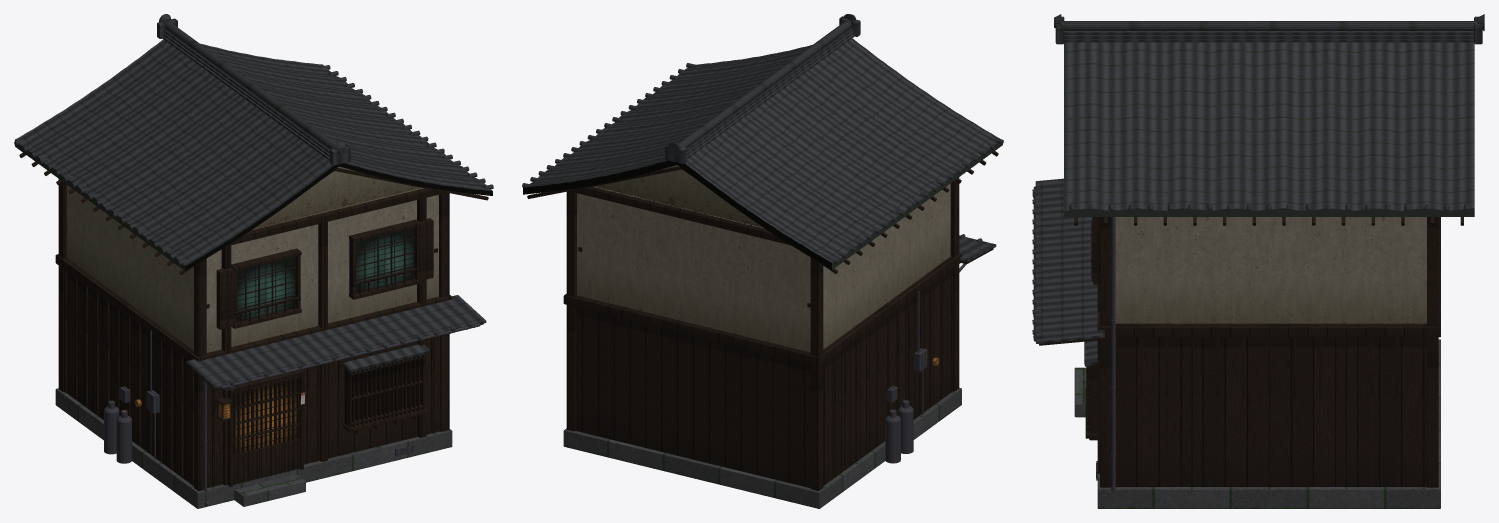
File: MachiyaHouse_B.fbx
3 views of the same model, side by side, from view 1: azimuth 30°, elevation 25°; view 2: azimuth 150°, elevation 25°; view 3: azimuth 270°, elevation 25° (orthographic). The views are drawn at different scales.
Parts seen in each view (by area): view 1: MachiyaHouse_B; view 2: MachiyaHouse_B; view 3: MachiyaHouse_B.
Part boxes in pixels (left/top/right/bottom): MachiyaHouse_B: left=14, top=14, right=493, bottom=508; MachiyaHouse_B: left=522, top=14, right=1003, bottom=508; MachiyaHouse_B: left=1032, top=14, right=1484, bottom=508.
Bounding box in the file's own units: 7.09 × 7.49 × 7.32.
